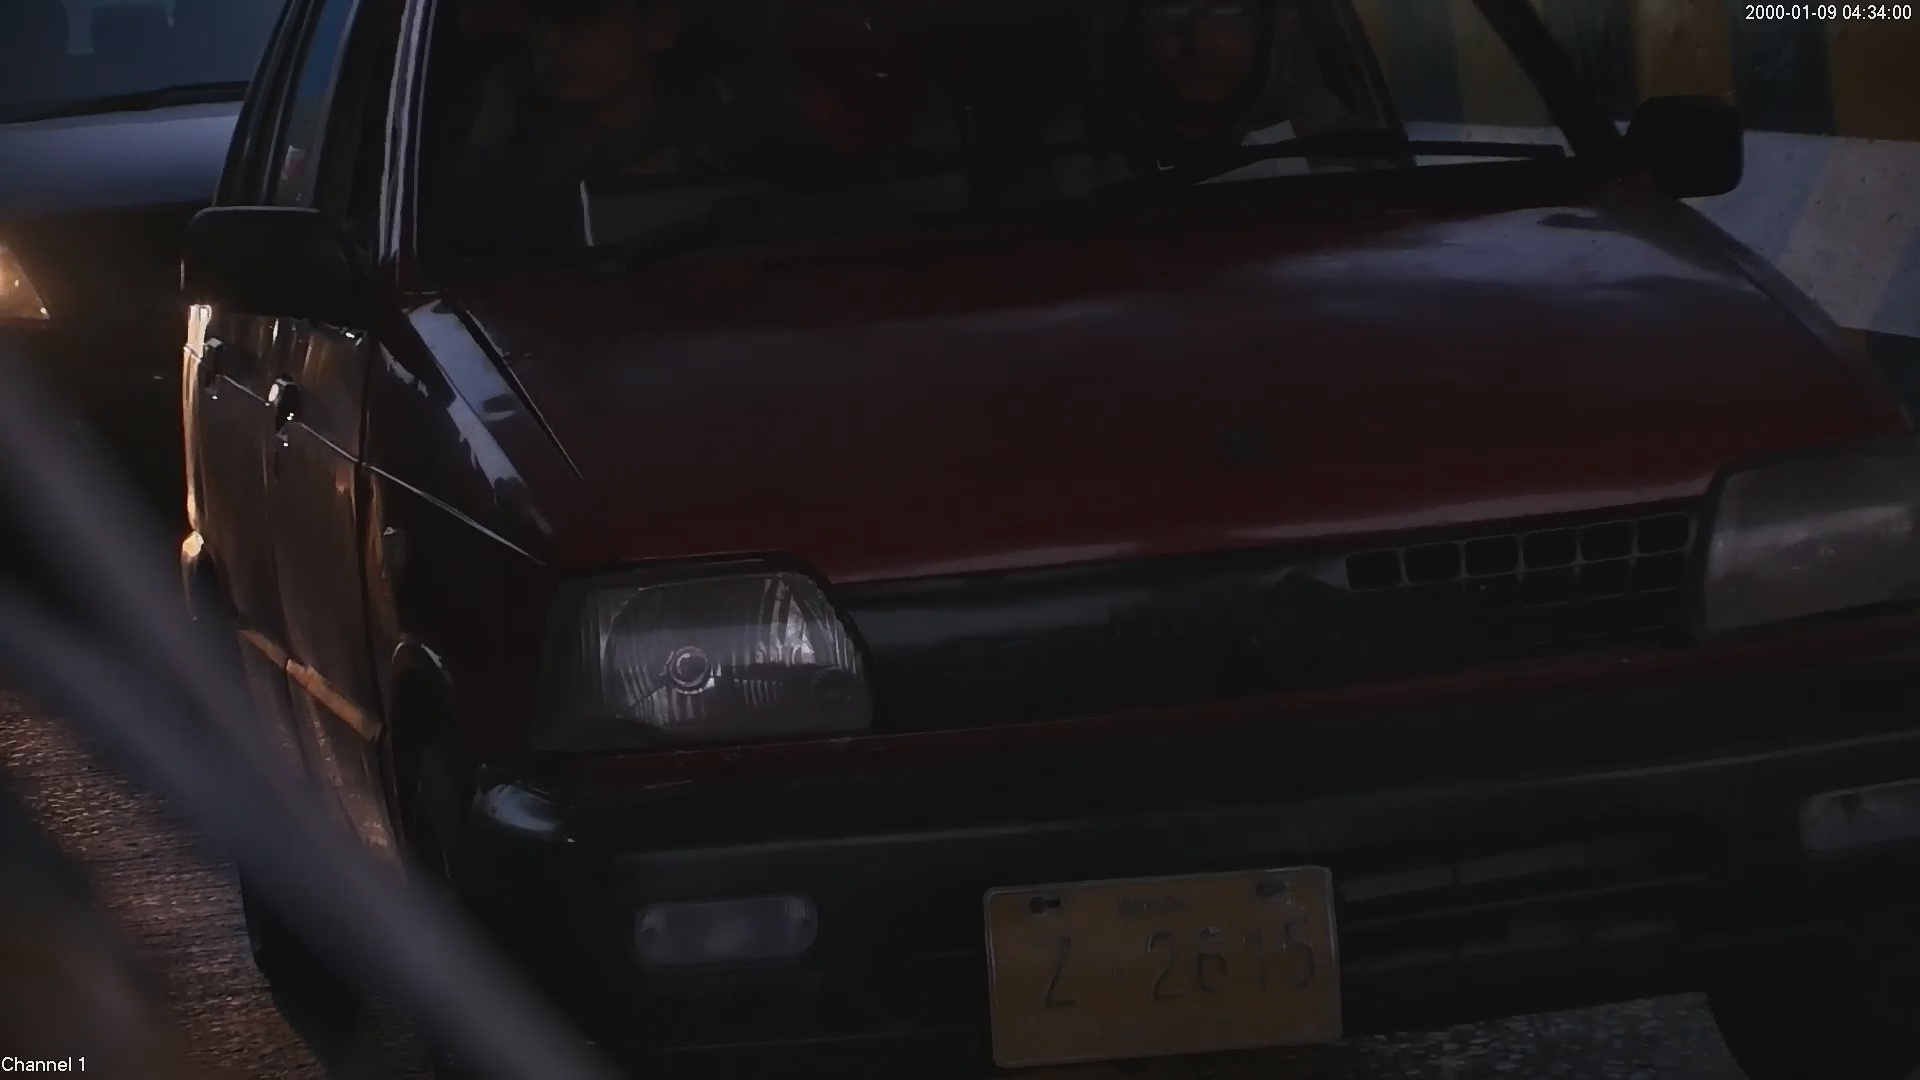Number_Plate: (976, 862, 1354, 1055)
Undefined: (541, 557, 858, 749), (1710, 468, 1910, 605), (632, 894, 819, 962)
